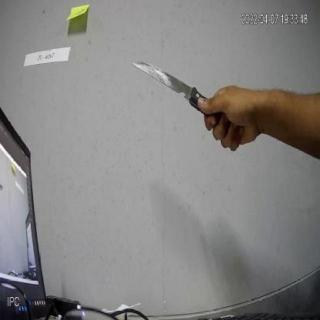knife: (129, 56, 240, 132)
